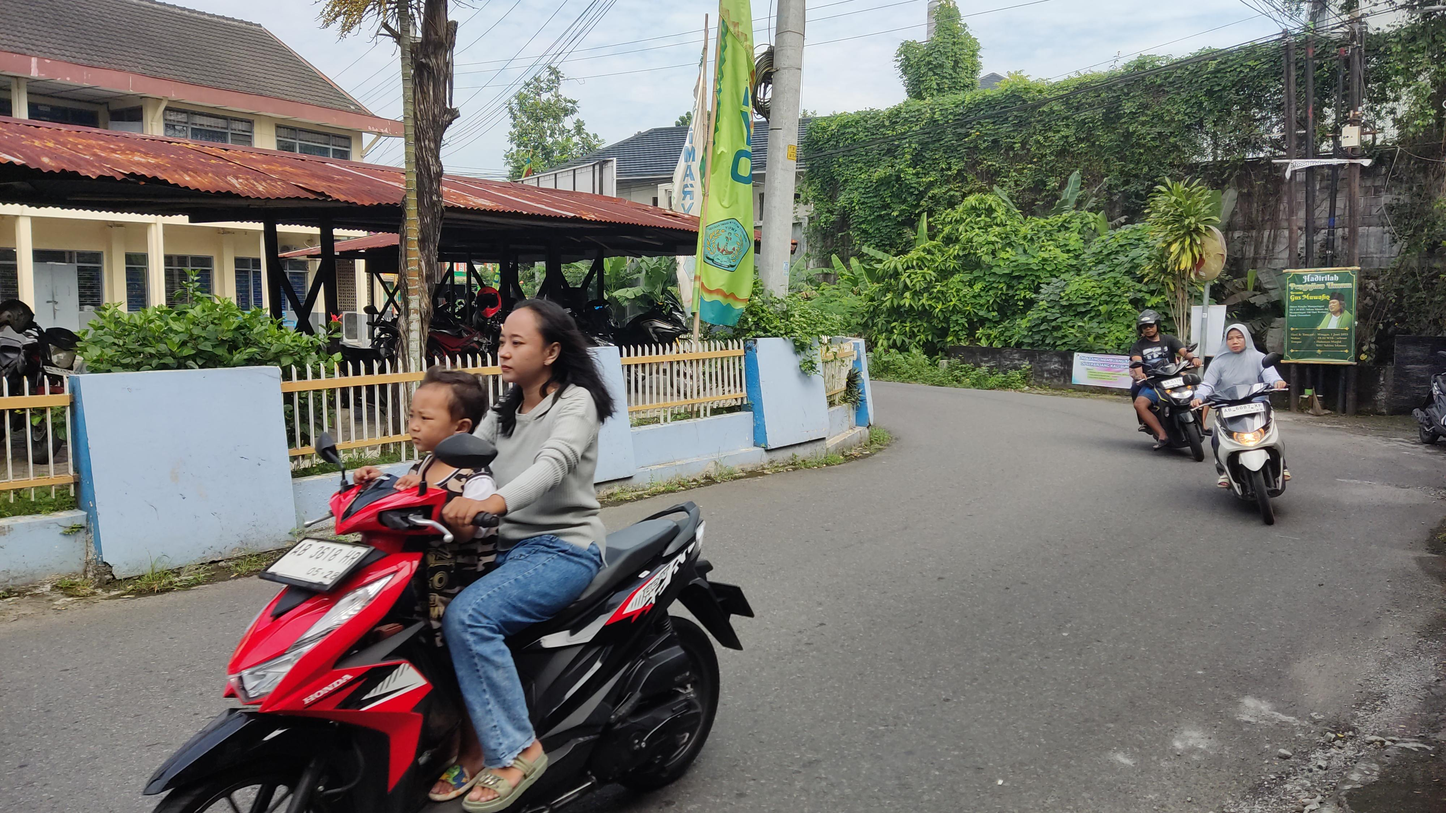helm: (1135, 308, 1163, 339)
nohelm: (406, 361, 493, 454), (496, 297, 585, 385), (1224, 323, 1249, 355)
riding: (139, 295, 758, 813), (1190, 322, 1298, 528), (1129, 307, 1215, 464)
